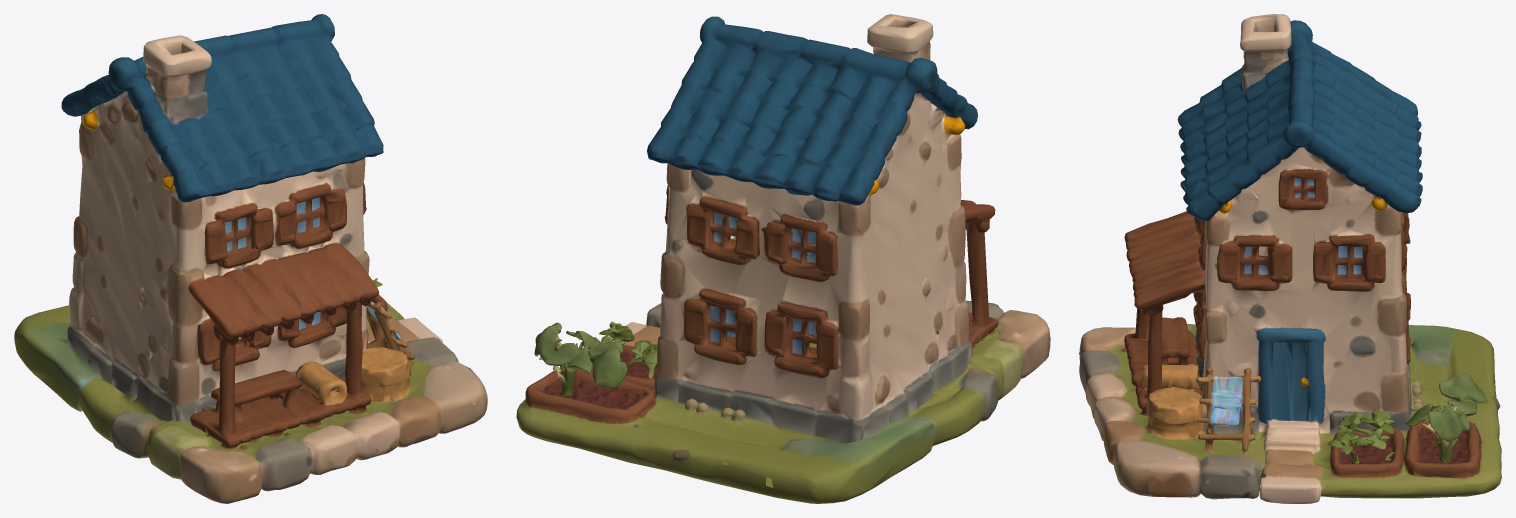
The model's file is sefa-house.glb.
3 renders of one model, left to right at view 1: azimuth 30°, elevation 25°; view 2: azimuth 150°, elevation 25°; view 3: azimuth 270°, elevation 25°, orthographic. The views are drawn at different scales.
Bounding box in the file's own units: 7.9 × 8.39 × 8.85.
1 material, 1 textured.
